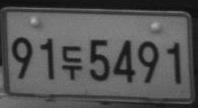1: (37, 37, 60, 80), (164, 41, 187, 84)
4: (112, 39, 136, 83)
5: (88, 38, 110, 81)
9: (136, 40, 159, 84), (11, 35, 33, 79)
두: (61, 45, 83, 81)
